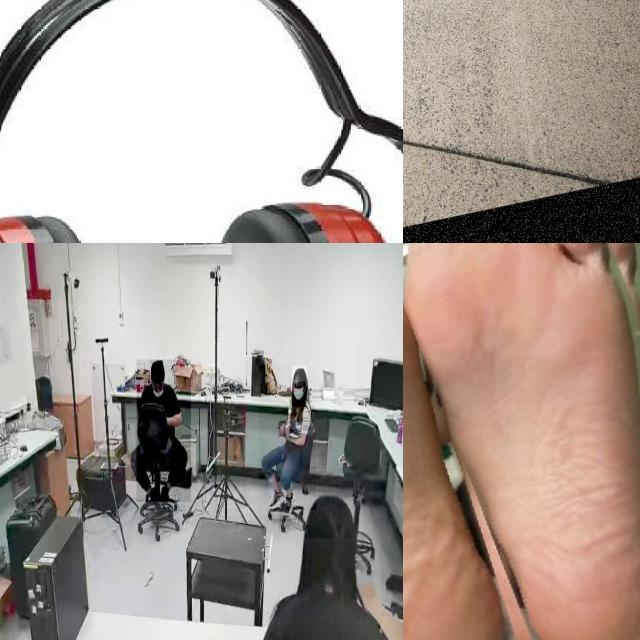Barefoots: (407, 243, 640, 640), (403, 304, 520, 640)
Ear-protection: (0, 0, 403, 243)
face_mask: (292, 384, 306, 406)
hand_noglove: (278, 421, 286, 438)
head_nohelmet: (302, 494, 354, 539), (292, 366, 308, 382), (150, 360, 164, 376)
person: (236, 480, 403, 640), (259, 365, 317, 511), (136, 360, 192, 502)
shoes: (281, 488, 297, 517), (268, 485, 284, 511)
